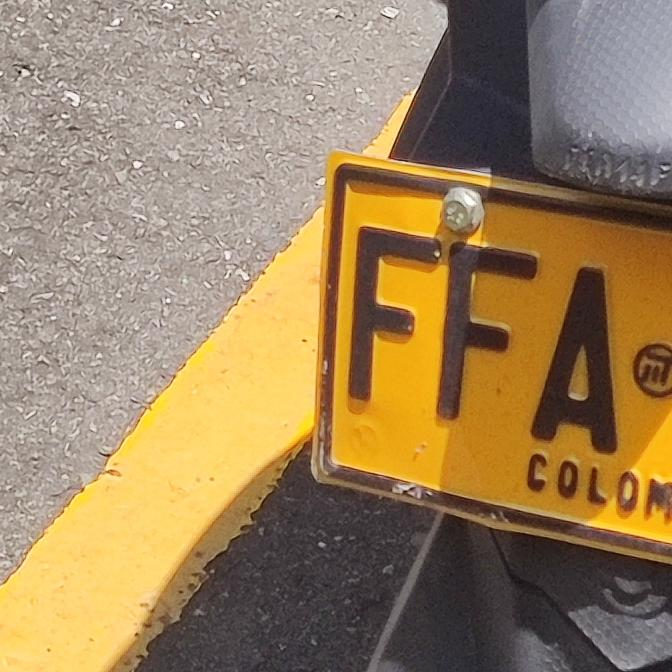plates: (307, 143, 672, 562)
